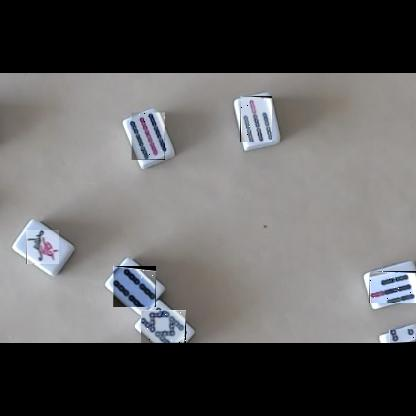1s: (26, 230, 59, 264)
4s: (113, 266, 156, 307), (389, 329, 416, 343)
7s: (369, 271, 416, 303), (240, 96, 272, 142)
8s: (141, 310, 186, 343)
9s: (131, 112, 165, 160)
